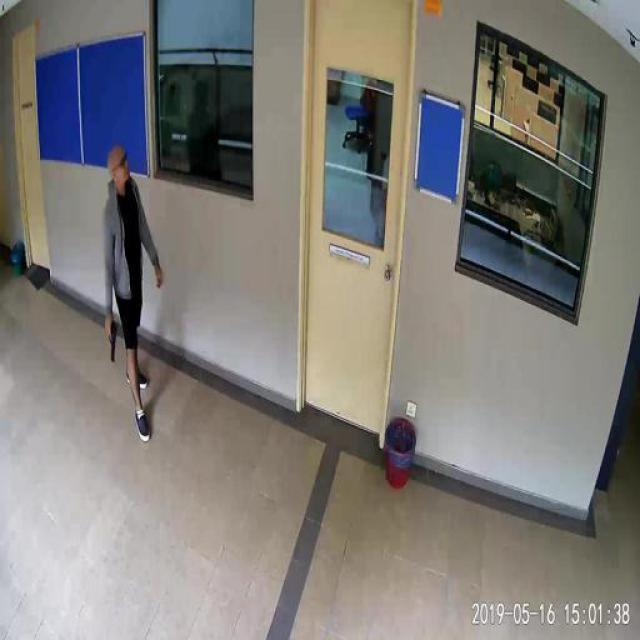weapon: (106, 319, 118, 363)
